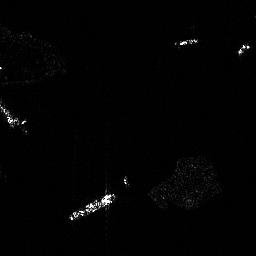ship: (67, 193, 116, 221), (174, 37, 198, 48)
